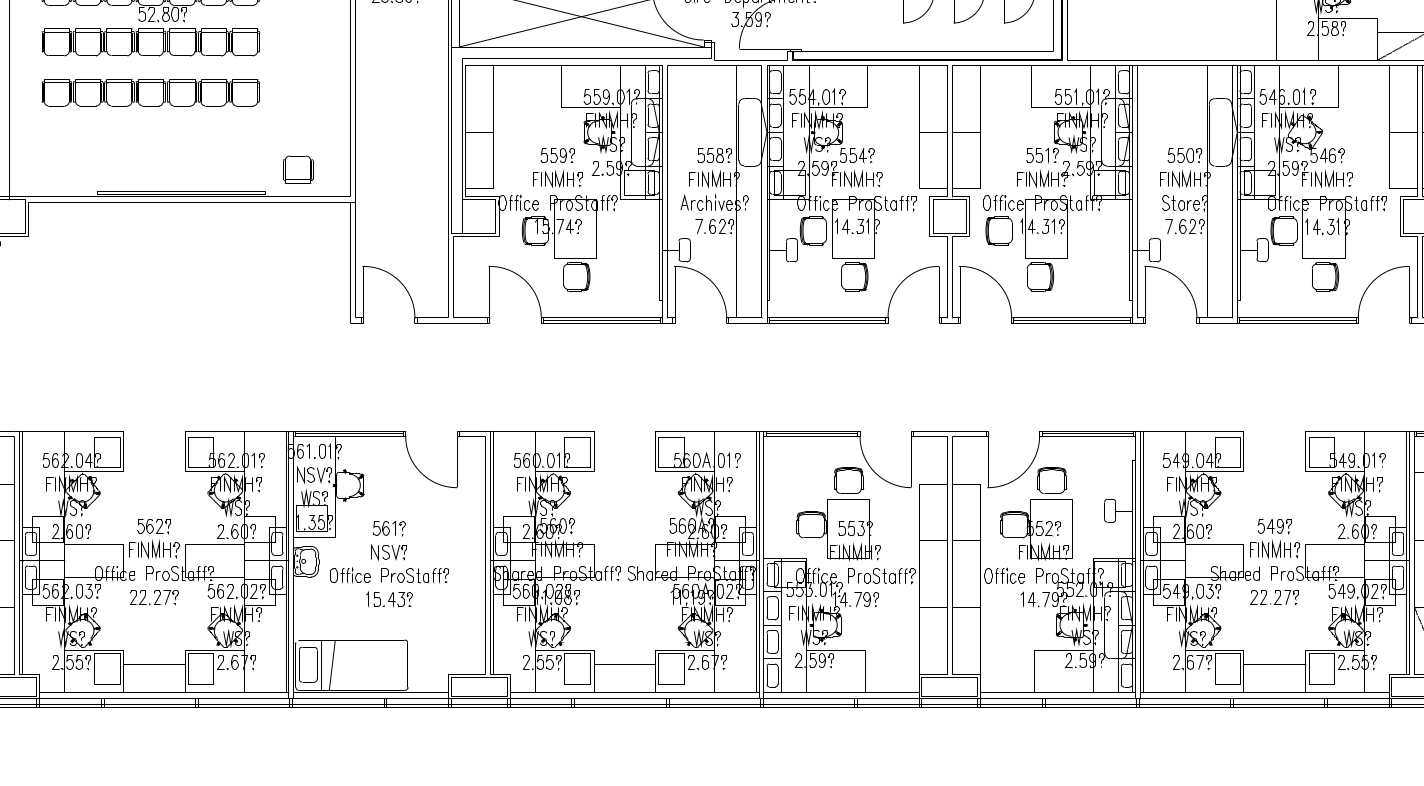door: (361, 261, 424, 319), (485, 261, 548, 319), (669, 260, 732, 318), (882, 263, 945, 321), (954, 261, 1017, 319), (1142, 263, 1205, 321), (1350, 260, 1413, 318), (982, 432, 1042, 491), (857, 433, 917, 492), (403, 435, 463, 494), (721, 1, 785, 54)
